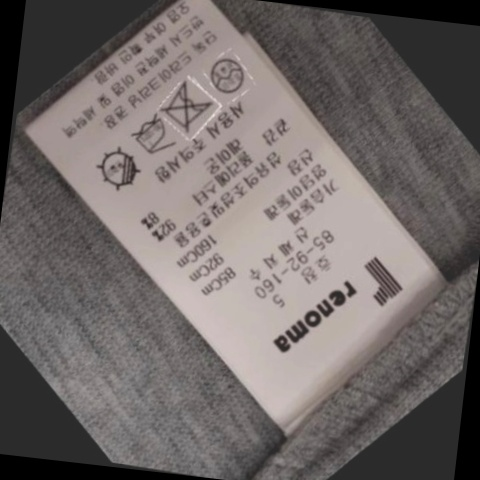DN_wash: (161, 83, 218, 132)
dry_clean_petrol_only: (207, 52, 252, 96)
iron_low: (127, 115, 178, 160)
line_dry_in_shade: (94, 147, 149, 193)
